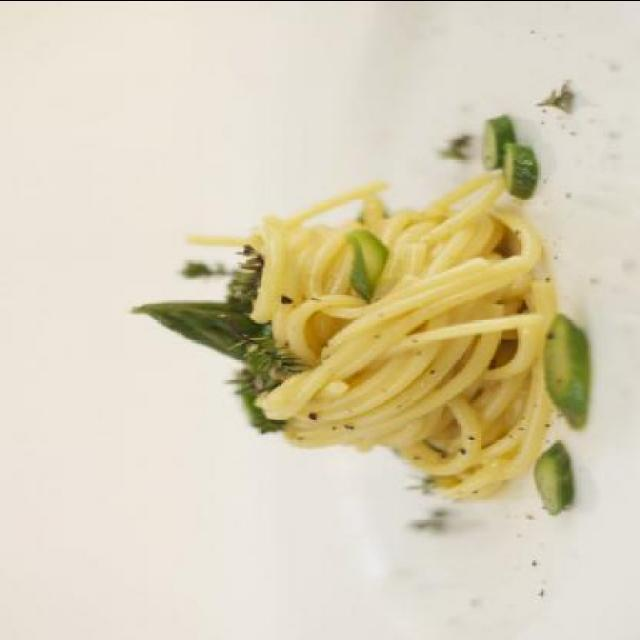Pasta with carbonara sauce: (65, 79, 618, 499)
